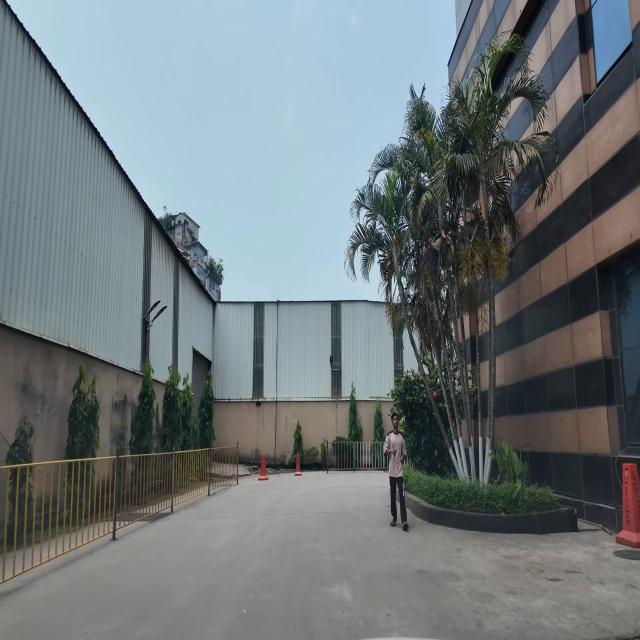person: (384, 413, 409, 532)
